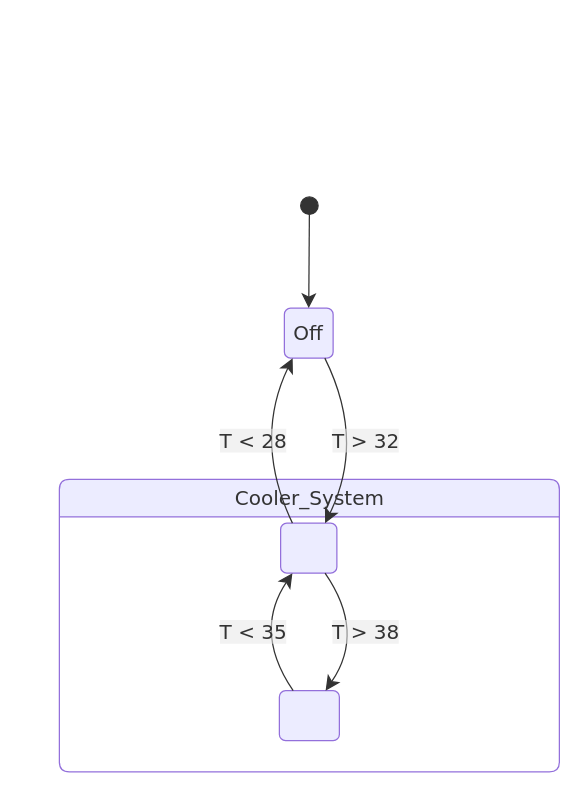
Image size: 581x794. Some labels were removed from this diagram. The centre of each missing label's shape, as x and y in pixels:
"High" belongs at (x=308, y=715).
"Low" belongs at (x=308, y=547).
